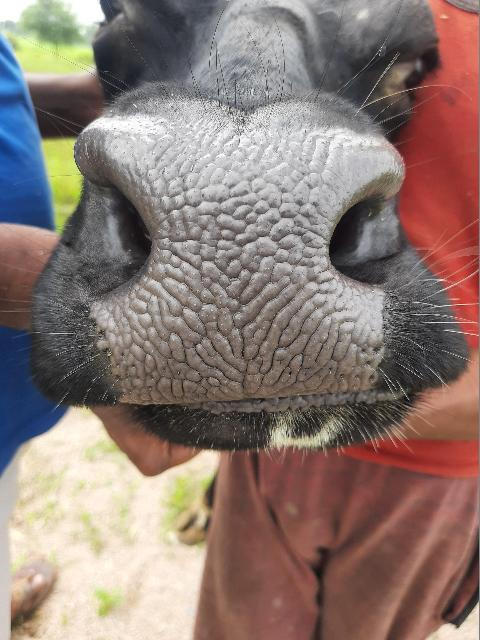Muzzle: (100, 130, 364, 394)
